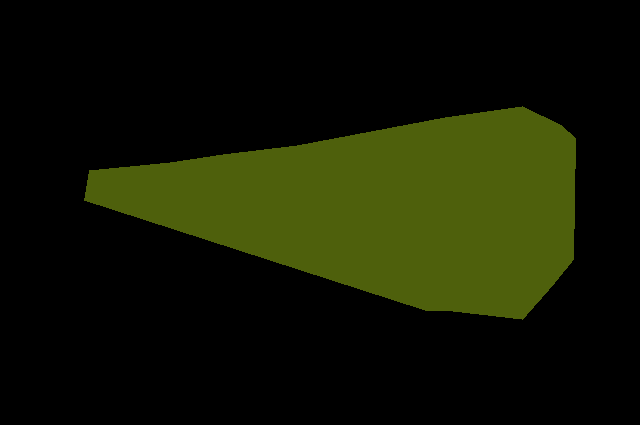Train: (84, 106, 576, 319)
